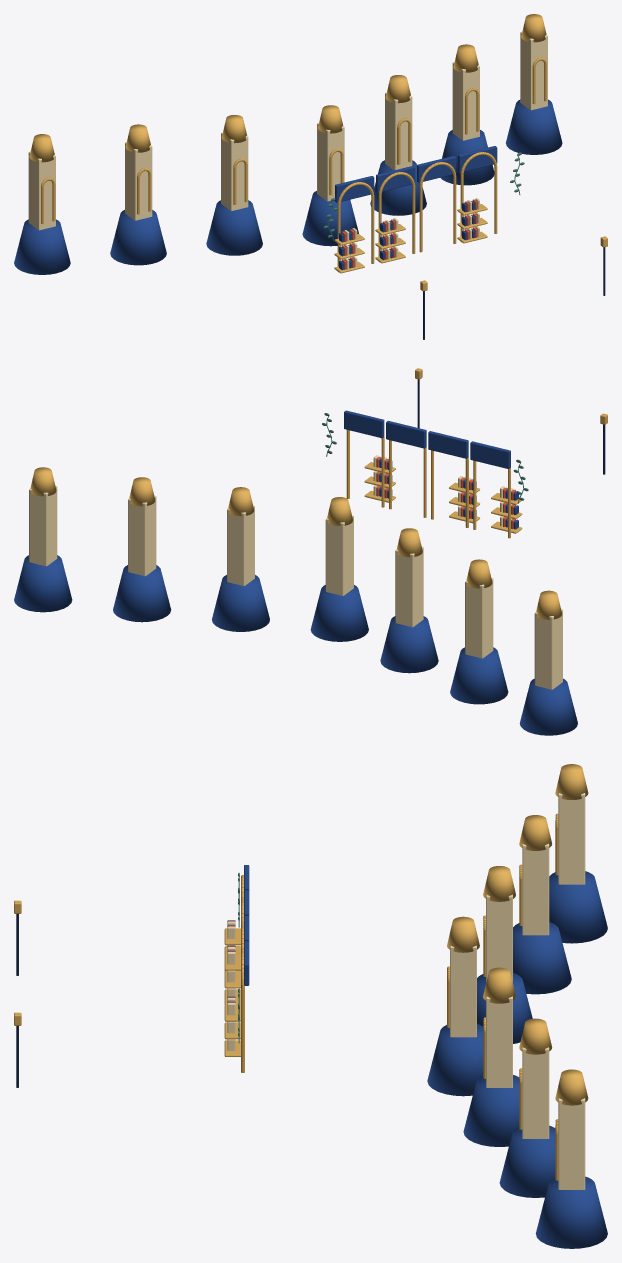
File: workshop.glb
3 views of the same model, one above another, from view 1: azimuth 30°, elevation 25°; view 2: azimuth 150°, elevation 25°; view 3: azimuth 270°, elevation 25° (orthographic). The views are drawn at different scales.
Visible parts, largest first — view 1: Architecture_blue, Architecture_cream, Architecture_gold, Architecture_coral; view 2: Architecture_blue, Architecture_cream, Architecture_gold, Architecture_coral; view 3: Architecture_blue, Architecture_cream, Architecture_gold.
Part boxes in pixels (x1,y1,x2,y2): Architecture_blue: (14,99,562,274); Architecture_cream: (28,32,547,269); Architecture_gold: (29,14,607,291); Architecture_coral: (341,199,477,269); Architecture_blue: (14,410,577,735); Architecture_cream: (29,455,562,689); Architecture_gold: (30,368,607,619); Architecture_coral: (376,456,515,528); Architecture_blue: (227,865,607,1248); Architecture_cream: (227,793,585,1189); Architecture_gold: (14,764,588,1180).
Bounding box in the file's own units: 26.4 × 6.1 × 19.73.
